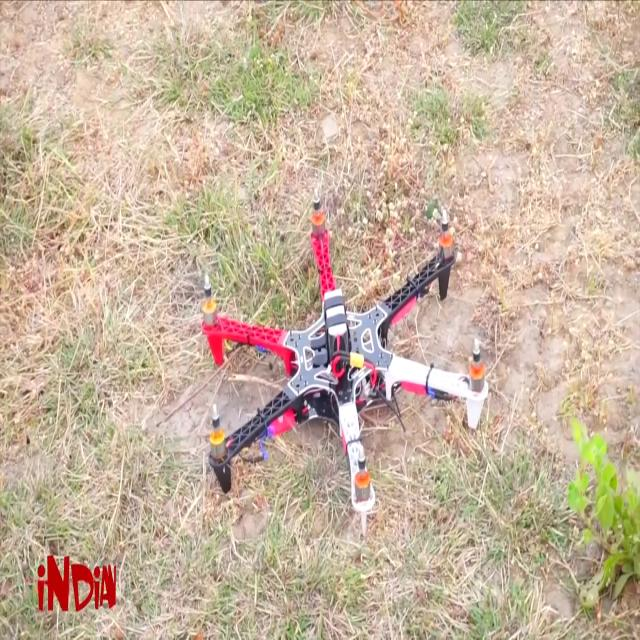drone: (170, 184, 500, 540)
